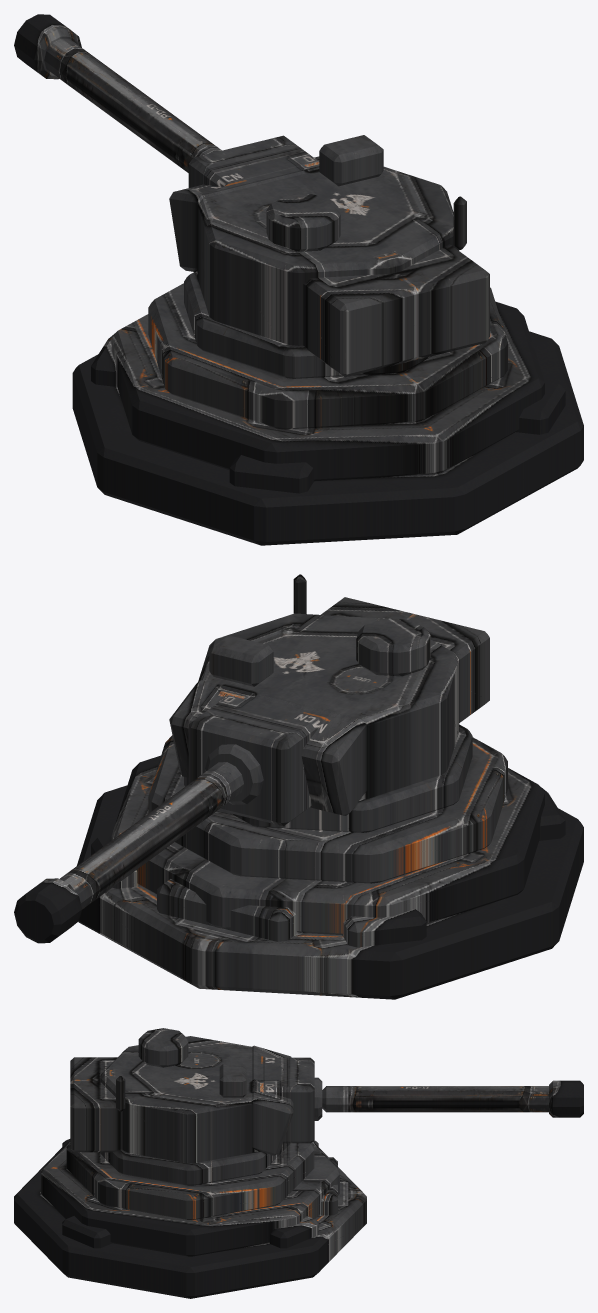
File: turret_human.glb
The picture shows the model from 3 angles, top to bottom: view 1: azimuth 30°, elevation 25°; view 2: azimuth 150°, elevation 25°; view 3: azimuth 270°, elevation 25°; orthographic projection. The views are drawn at different scales.
Parts seen in each view (by area): view 1: TurretBase, TurretBody; view 2: TurretBase, TurretBody; view 3: TurretBase, TurretBody.
Part boxes in pixels (box(x1,y1,x2,y2)): TurretBase: box(72, 283, 583, 545); TurretBody: box(14, 14, 489, 378); TurretBase: box(77, 735, 583, 999); TurretBody: box(14, 574, 489, 943); TurretBase: box(14, 1139, 366, 1298); TurretBody: box(70, 1028, 583, 1185).
Size of the model in its own units: 4.55 by 2.5 by 7.35.
1 material, 1 textured.
